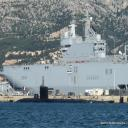submarine: (16, 86, 125, 104)
